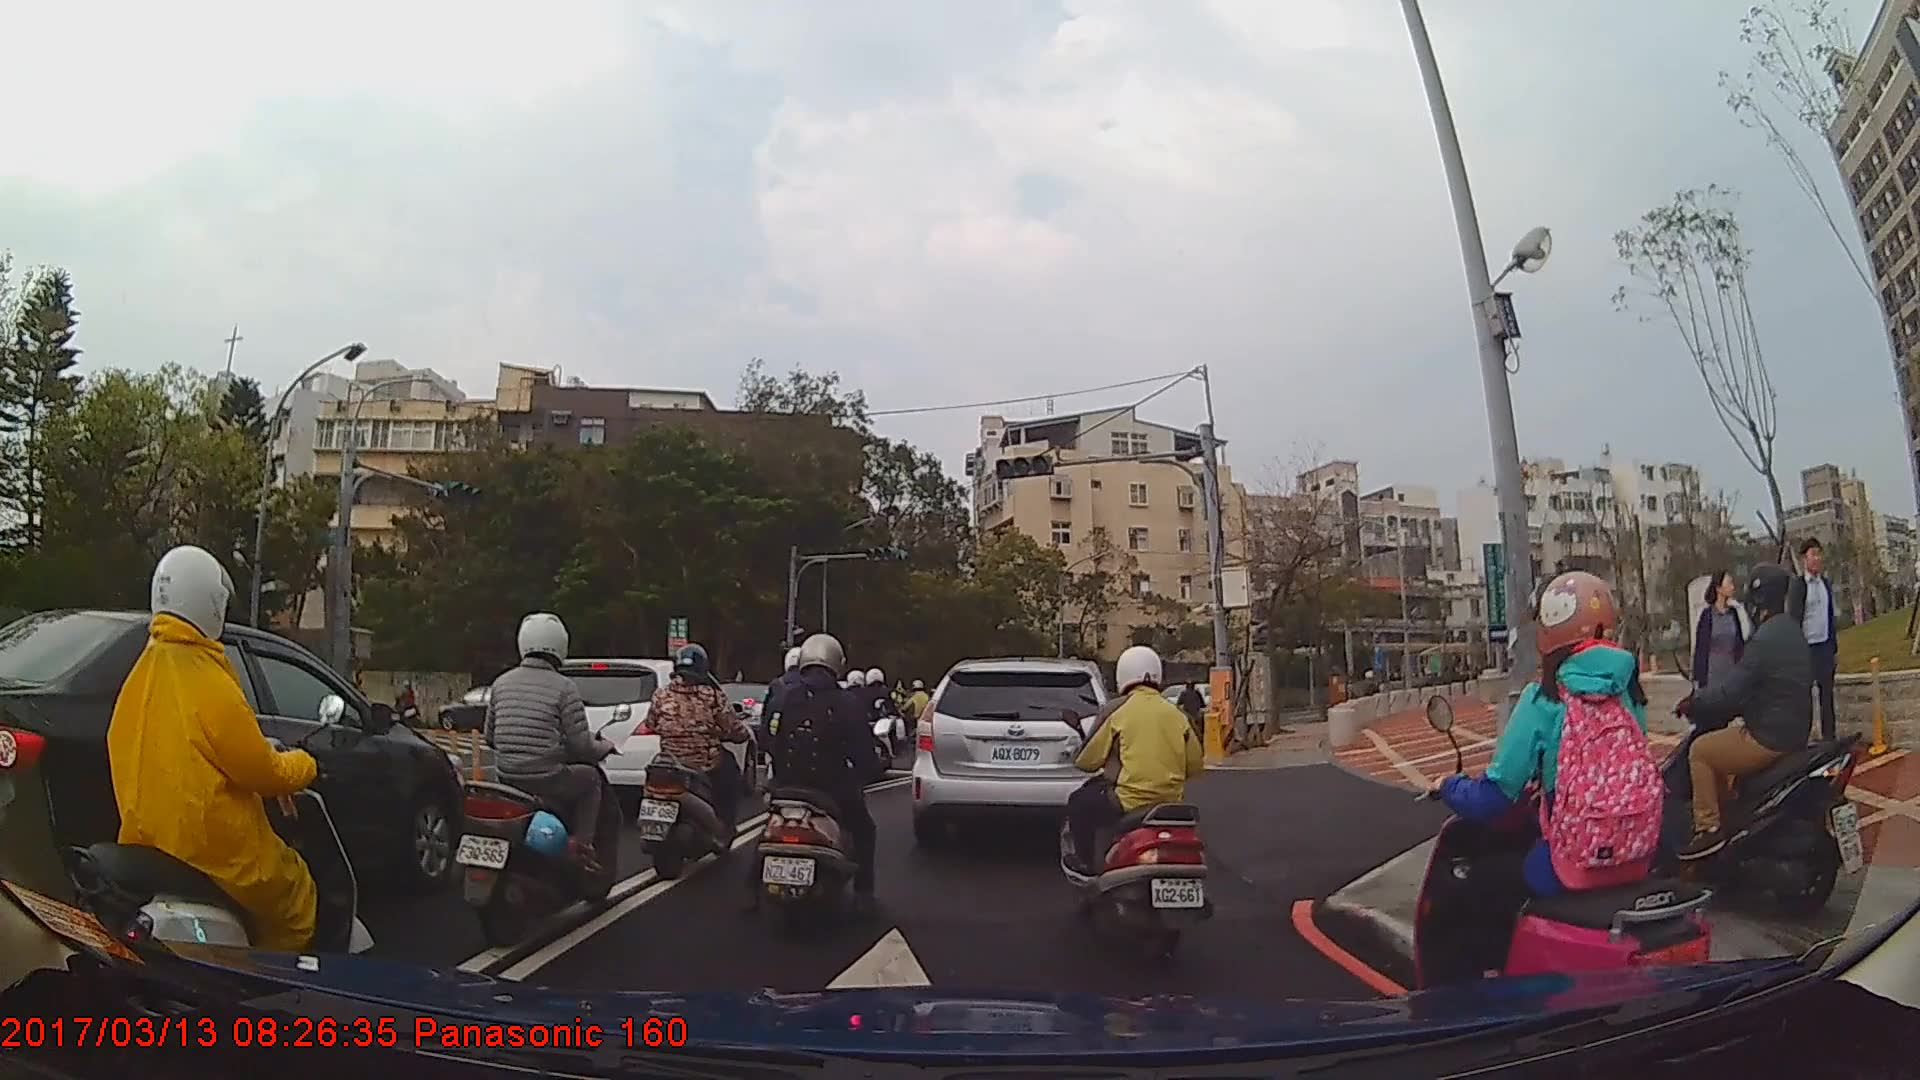pedestrian: (1780, 532, 1845, 767), (1693, 576, 1752, 797)
rider: (1403, 570, 1726, 1036), (67, 543, 375, 1018), (1652, 561, 1843, 913), (455, 607, 619, 952), (1058, 642, 1218, 961), (755, 634, 890, 940), (634, 642, 759, 878), (893, 676, 933, 745), (1178, 676, 1209, 747)
vehicle: (0, 606, 466, 932), (904, 658, 1129, 845), (519, 656, 755, 817), (437, 684, 541, 732)
